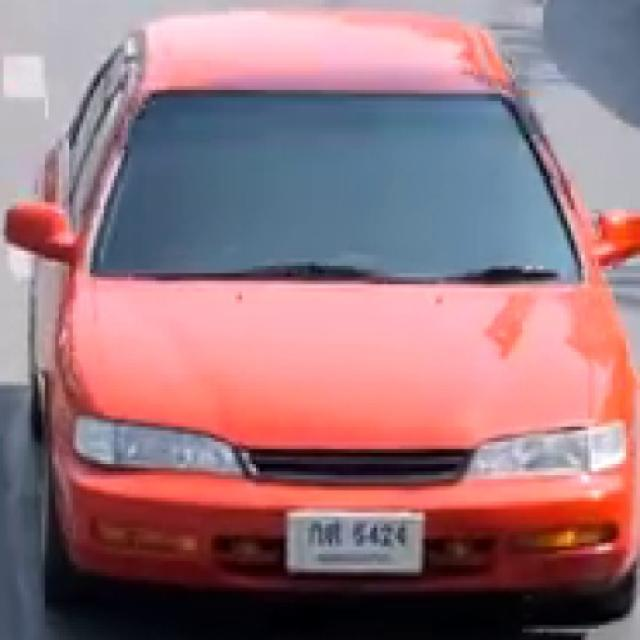plate: (288, 514, 422, 572)
